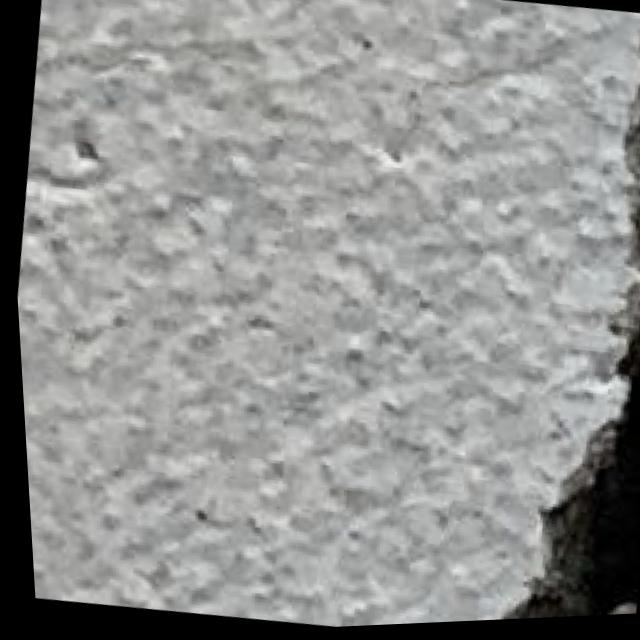Crack: (407, 0, 640, 626)
